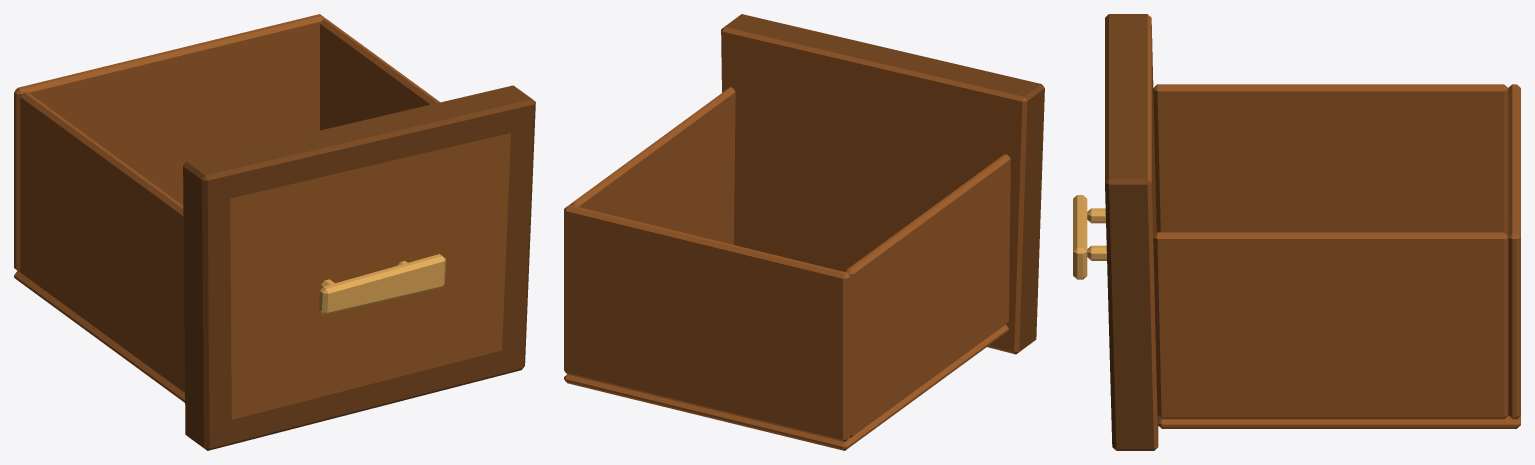
The model's file is Rack_2.fbx.
3 renders of one model, left to right at view 1: azimuth 30°, elevation 25°; view 2: azimuth 150°, elevation 25°; view 3: azimuth 270°, elevation 25°, orthographic. The views are drawn at different scales.
Parts seen in each view (by area): view 1: Rack_2; view 2: Rack_2; view 3: Rack_2.
Boxes of the visible parts, x1=… form: Rack_2: x1=14, y1=14, x2=535, y2=450; Rack_2: x1=564, y1=14, x2=1044, y2=450; Rack_2: x1=1073, y1=14, x2=1520, y2=450.
Bounding box in the file's own units: 0.4016 × 0.3216 × 0.4606.
